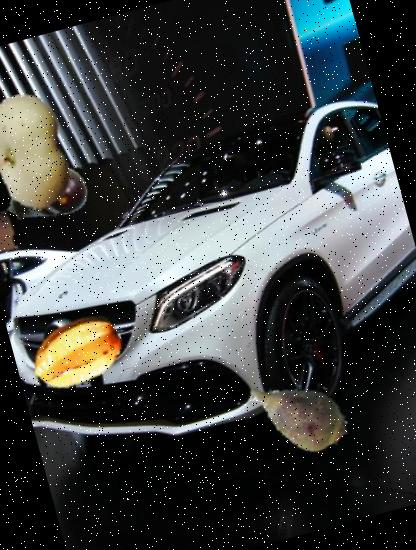Beetroot: (231, 346, 368, 484)
Carambula: (20, 295, 135, 410)
Eggplant: (0, 143, 99, 248)
Peach: (0, 81, 101, 226)
